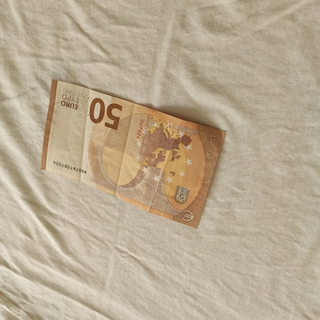50EUROBack: (38, 77, 228, 229)
